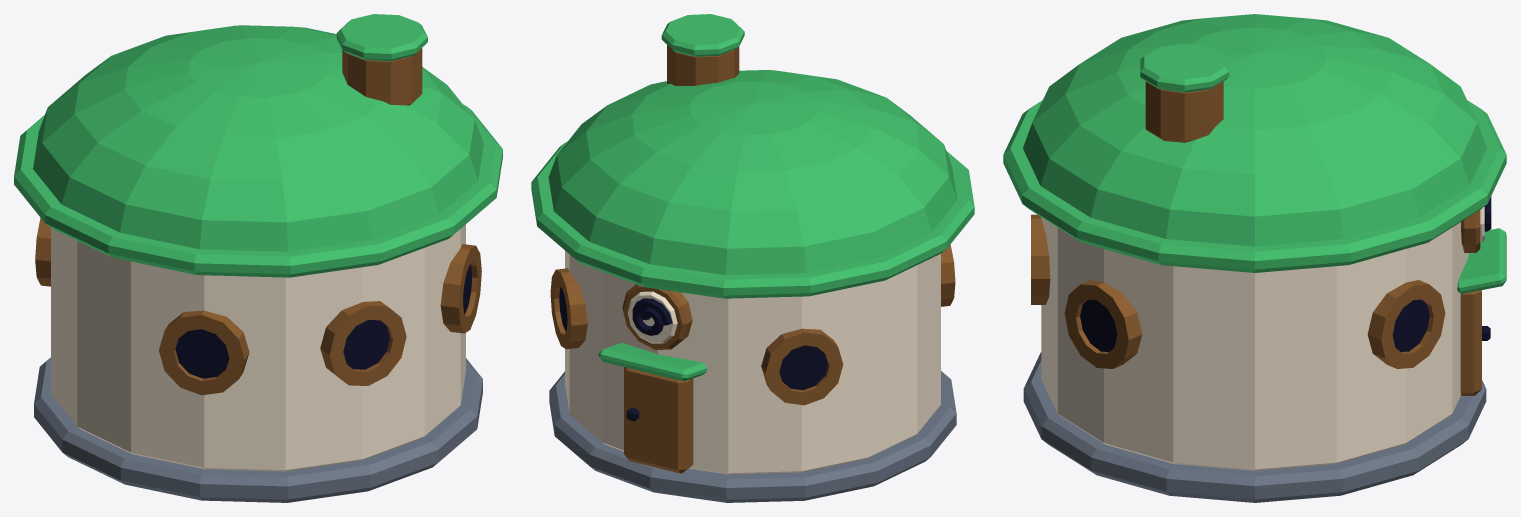
File: Prop_ninja_village_NinjaHouse.glb
3 views of the same model, side by side, from view 1: azimuth 30°, elevation 25°; view 2: azimuth 150°, elevation 25°; view 3: azimuth 270°, elevation 25° (orthographic). The views are drawn at different scales.
Parts seen in each view (by area): view 1: LeafGreen_3FBF6A, Wall_FFF1DC, StoneDark_6B7686, WoodDark_8A5A2B, Ink_0D0F2B; view 2: LeafGreen_3FBF6A, Wall_FFF1DC, WoodDark_8A5A2B, StoneDark_6B7686, Ink_0D0F2B; view 3: LeafGreen_3FBF6A, Wall_FFF1DC, StoneDark_6B7686, WoodDark_8A5A2B, Ink_0D0F2B.
Part boxes in pixels (x1,y1,x2,y2): LeafGreen_3FBF6A: [14, 14, 502, 277]; Wall_FFF1DC: [51, 224, 465, 471]; StoneDark_6B7686: [34, 357, 482, 502]; WoodDark_8A5A2B: [35, 48, 481, 395]; Ink_0D0F2B: [175, 264, 472, 378]; LeafGreen_3FBF6A: [531, 14, 974, 381]; Wall_FFF1DC: [565, 250, 940, 474]; WoodDark_8A5A2B: [550, 45, 955, 473]; StoneDark_6B7686: [549, 371, 956, 502]; Ink_0D0F2B: [559, 287, 827, 421]; LeafGreen_3FBF6A: [1003, 14, 1506, 293]; Wall_FFF1DC: [1041, 206, 1484, 470]; StoneDark_6B7686: [1023, 352, 1486, 502]; WoodDark_8A5A2B: [1031, 81, 1481, 395]; Ink_0D0F2B: [1080, 196, 1491, 351].
Bounding box in the file's own units: 17.2 × 14.75 × 17.2.
